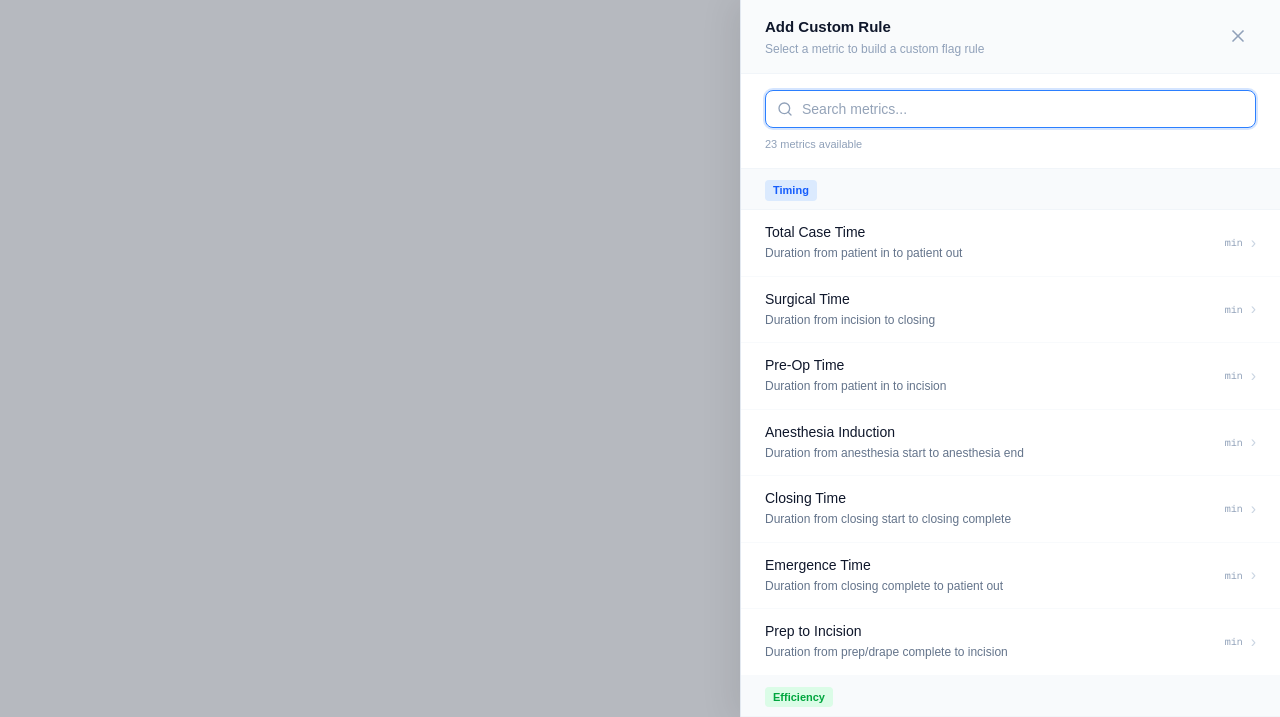
Test case: MetricSearchBuilder › Step 1 → Step 2 flow › advances to configure step when a metric is selected
Click the text "Total Case Time" at (815, 232), box x1=765 y1=224 x2=865 y2=240
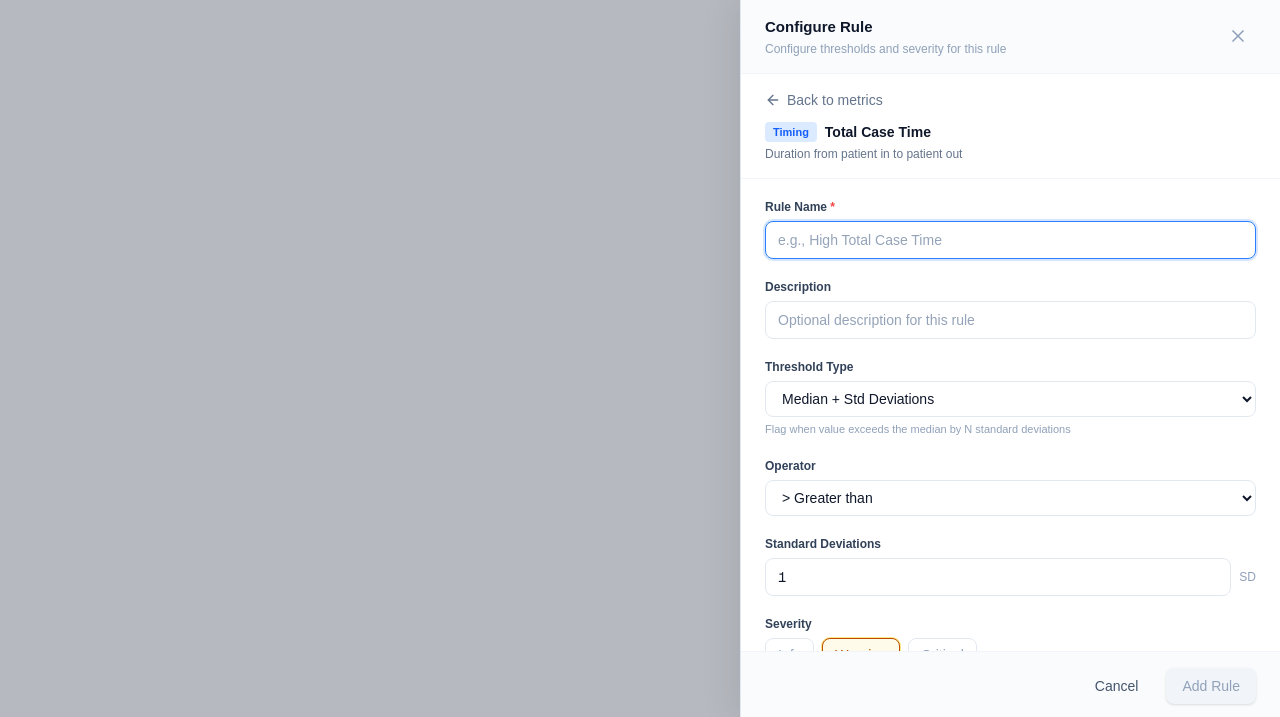
Result: the heading "Configure Rule" is shown at x1=765 y1=18 x2=872 y2=35
Result: the text "Configure thresholds and severity for this rule" is shown at x1=765 y1=40 x2=1006 y2=56
